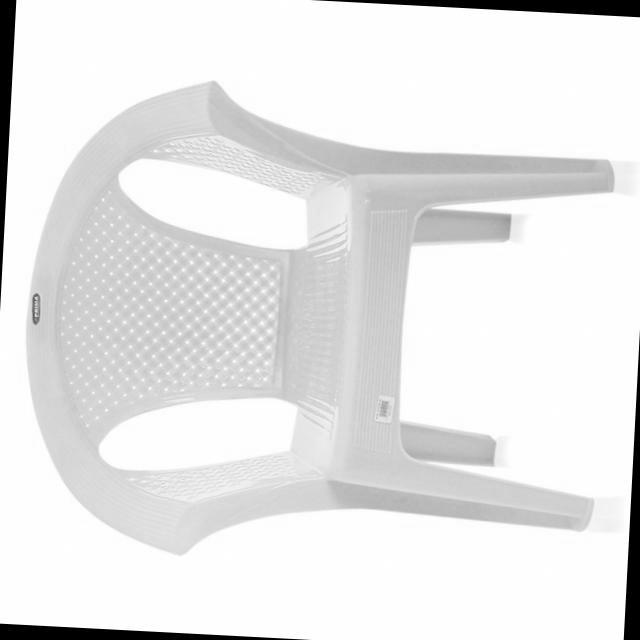chair: (14, 67, 630, 581)
